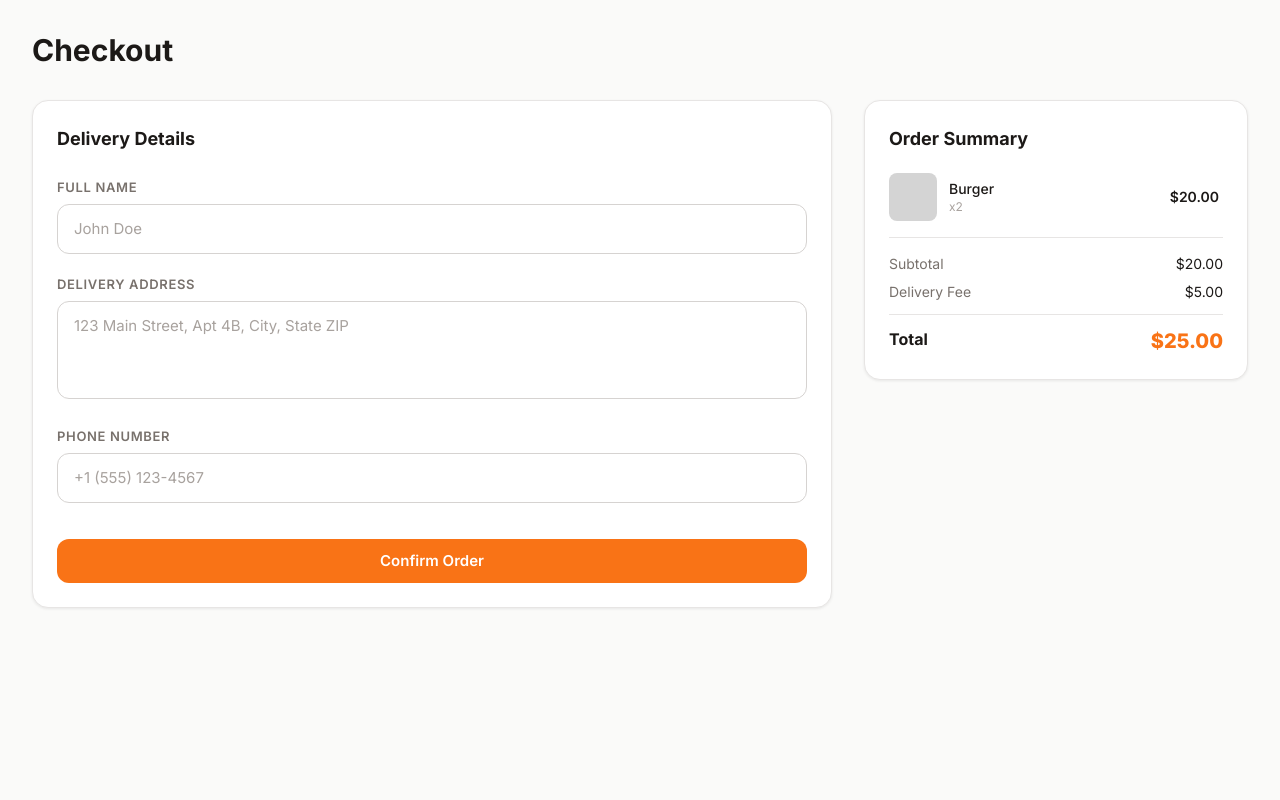
Test case: CheckoutPage › shows error for short address
Type "Short" into the text box labelled "Delivery Address".
click(432, 350); type("Short")  # box x1=57 y1=301 x2=807 y2=399
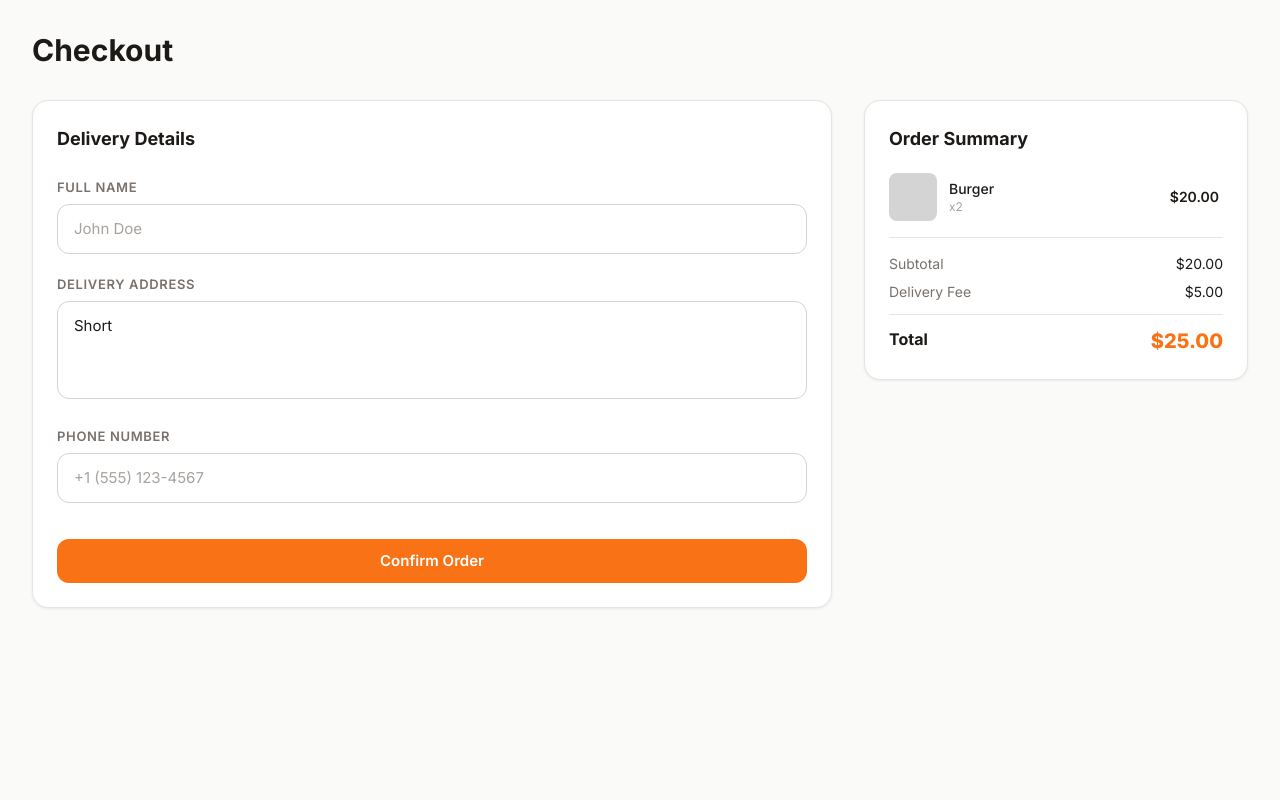
Click the button "Confirm Order".
click(432, 561)  # box x1=57 y1=539 x2=807 y2=583
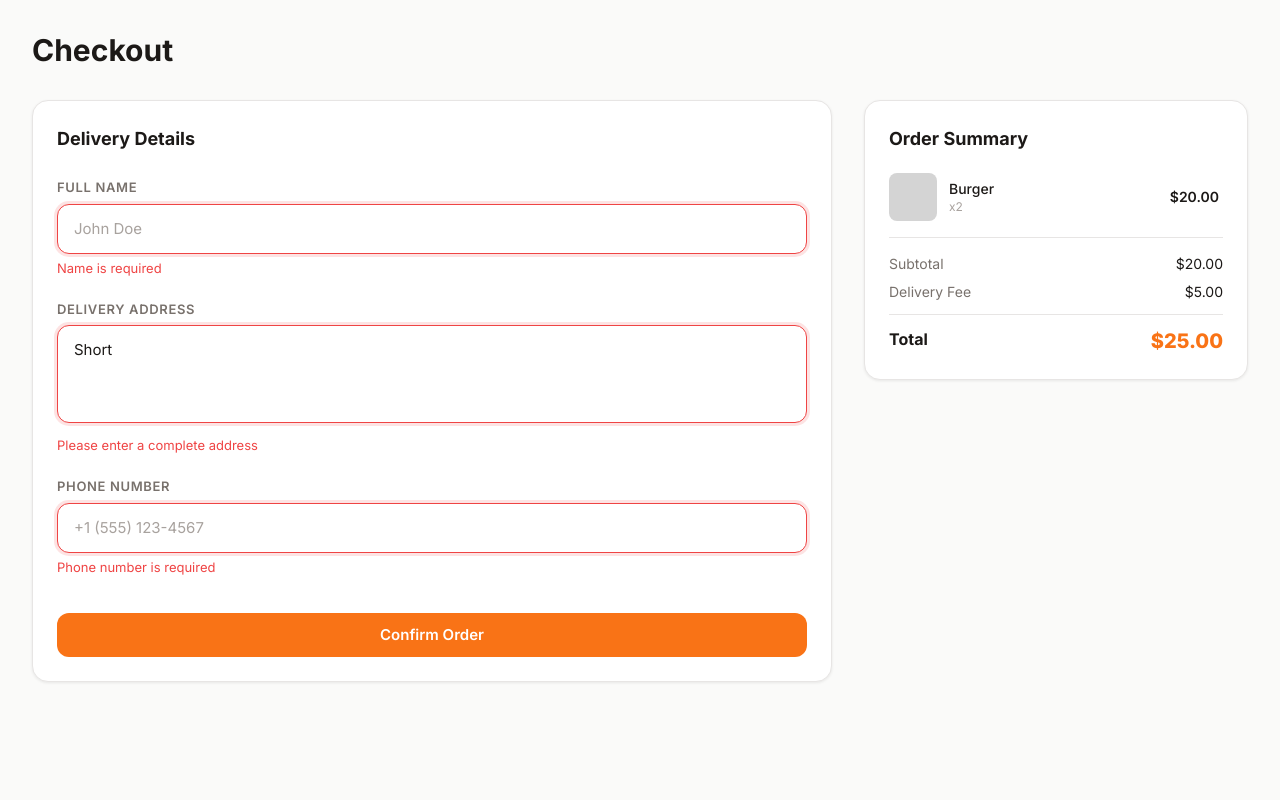
Check: the text "Please enter a complete address" is shown, box x1=57 y1=437 x2=258 y2=453
